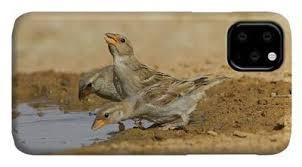hsparrow: (84, 77, 226, 138), (103, 24, 186, 99), (75, 64, 148, 110)
